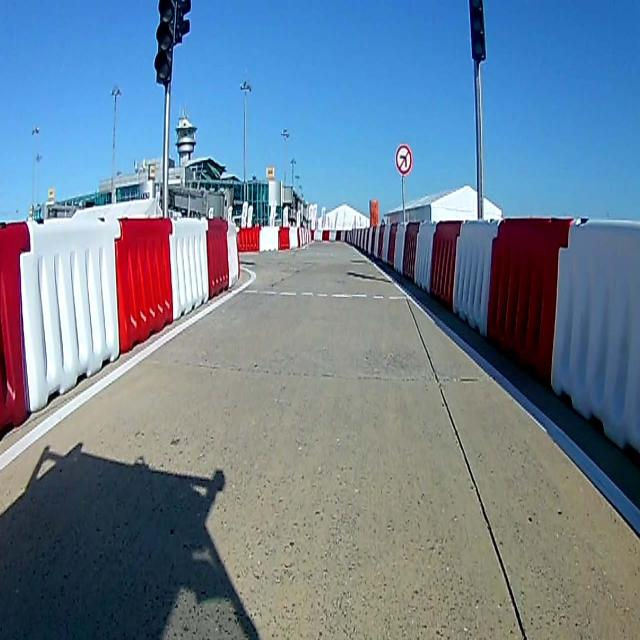soladonulmez: (396, 145, 412, 174)
